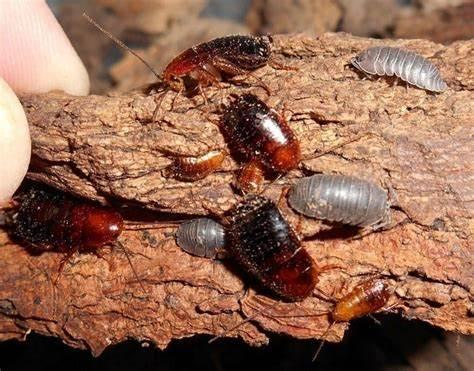cockroach: (226, 197, 324, 306), (15, 186, 129, 262), (150, 33, 274, 92), (224, 92, 304, 174), (332, 276, 394, 328), (168, 139, 228, 184), (232, 152, 266, 192)
